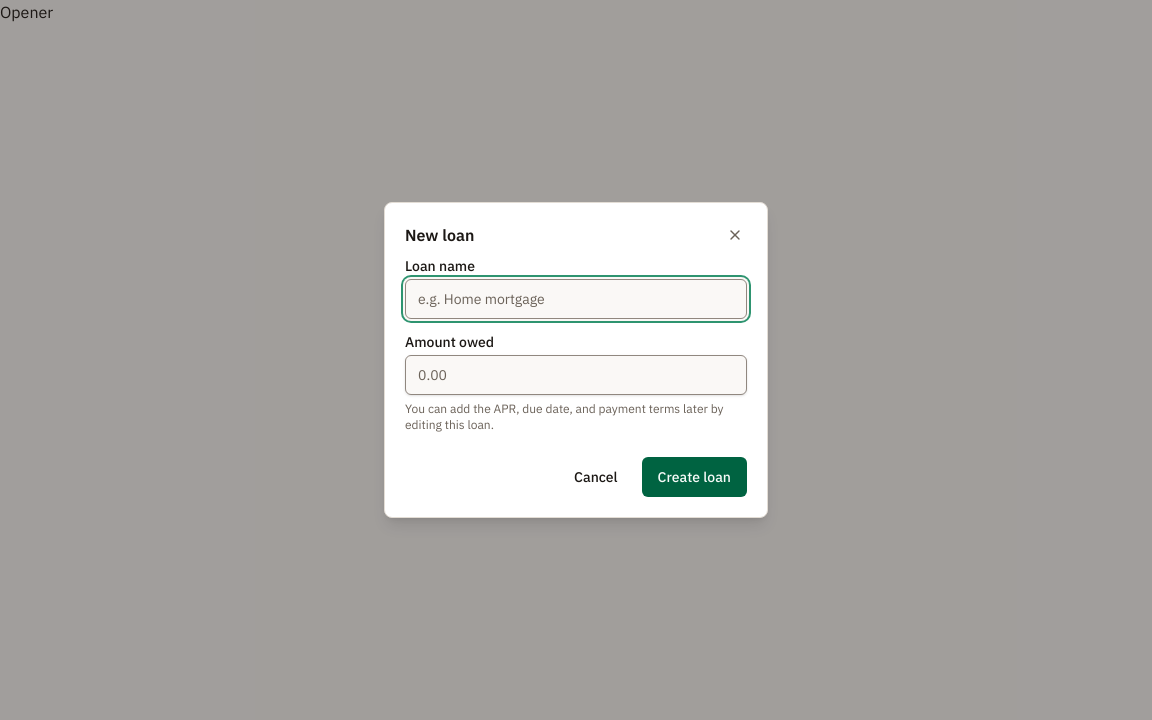
it: NewLoanDialog on the shared Dialog (personal-cfo-4d8.6.2) › shows a refusal in the dialog's alert and stays open
Type "Car" into the field labelled "Loan name". click: (576, 299)
box: [405,279,747,319]
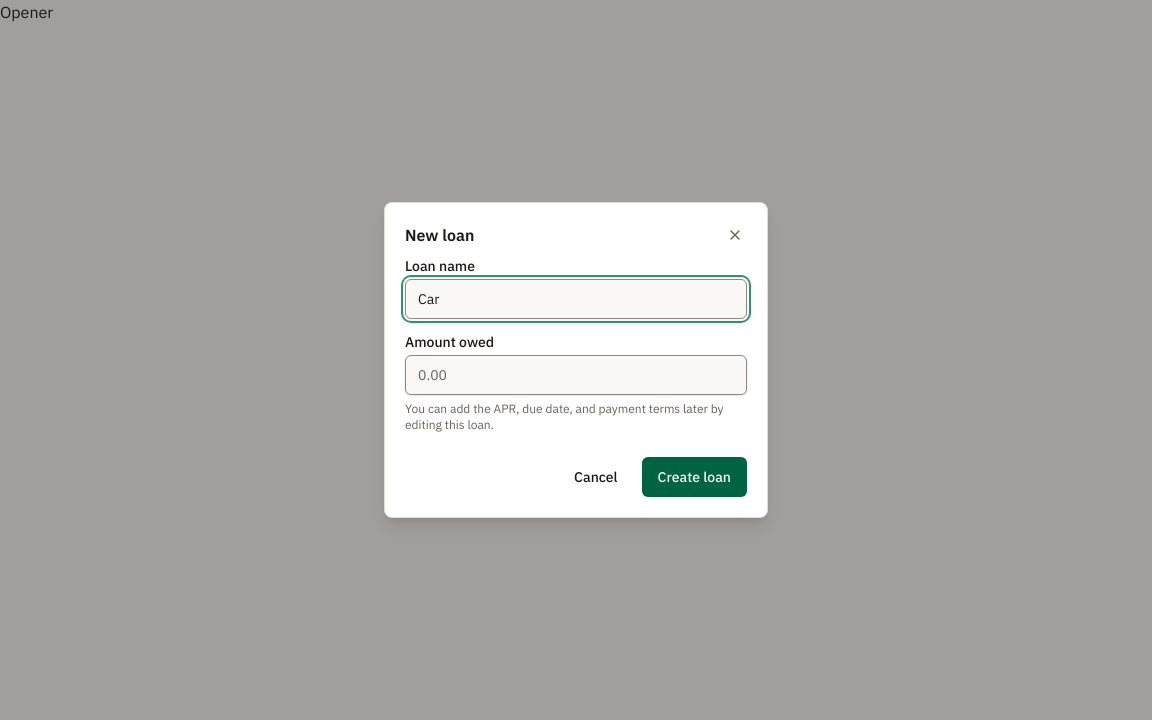
Click the button "Create loan". click: (694, 477)
box: [642,457,747,497]
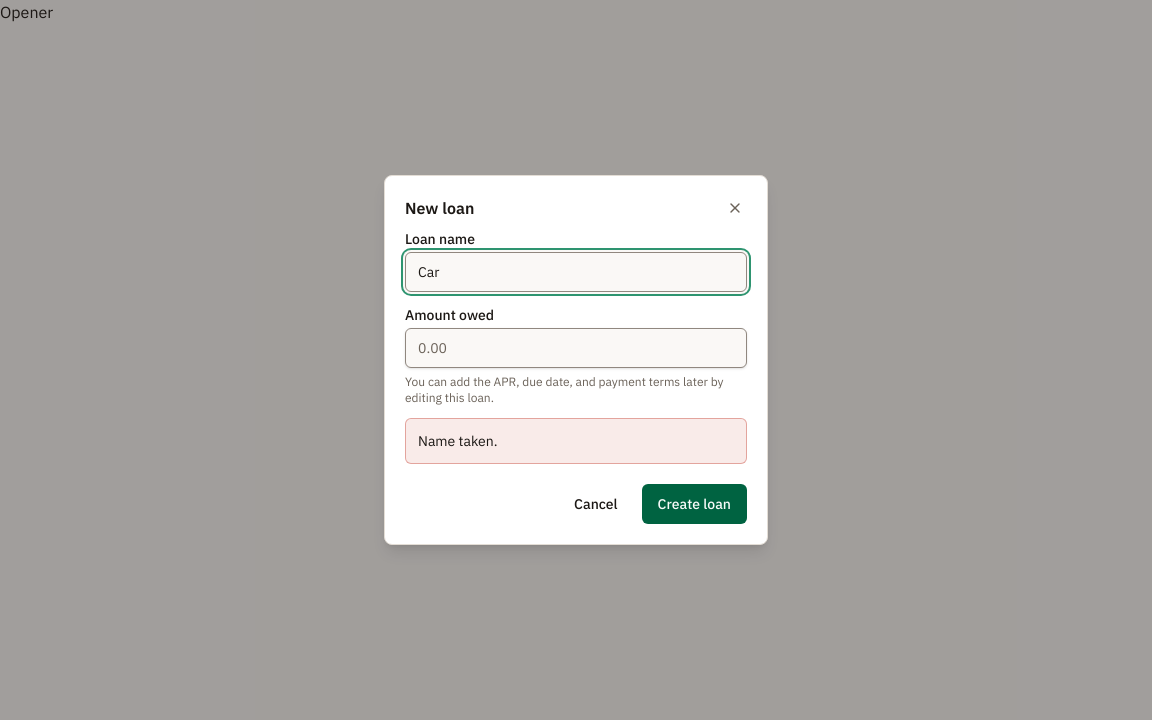
Expected: the message reads "Name taken.", [418,432,498,450]
